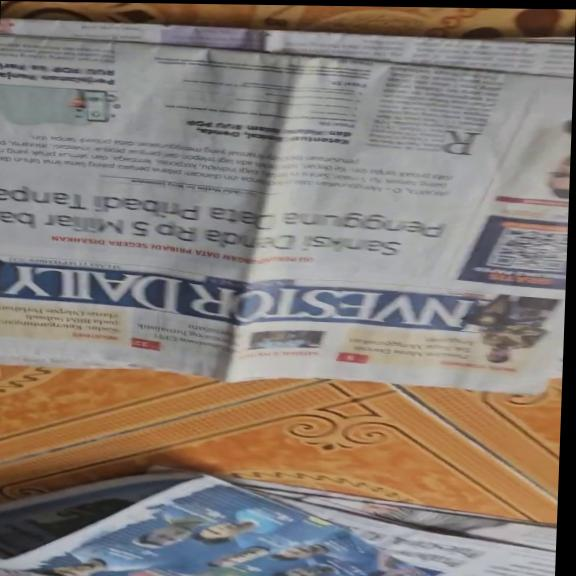Kertas: (0, 20, 571, 391)
